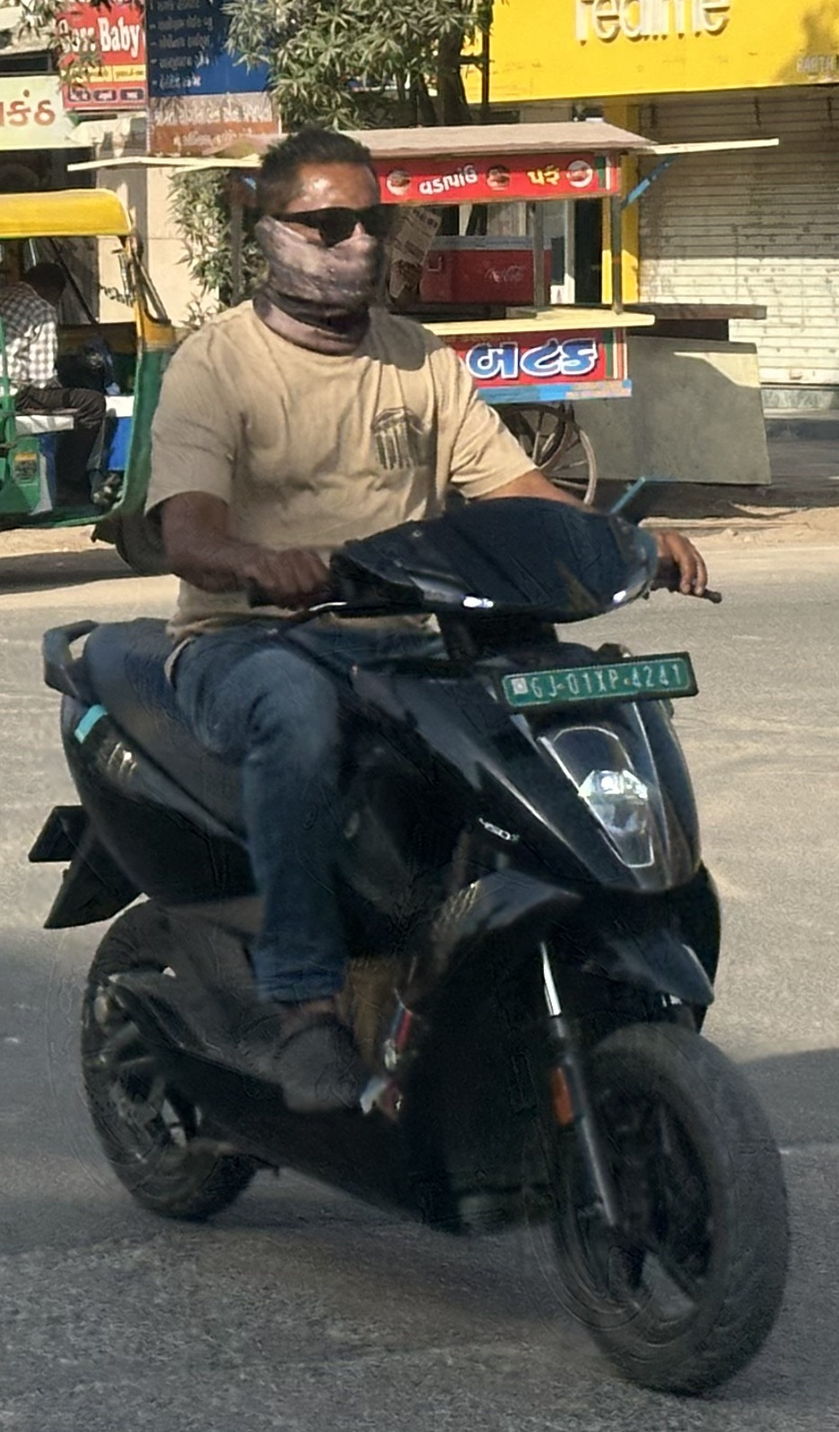BikeWithRider: (18, 109, 808, 1408)
NoHelmet: (228, 116, 409, 331)
